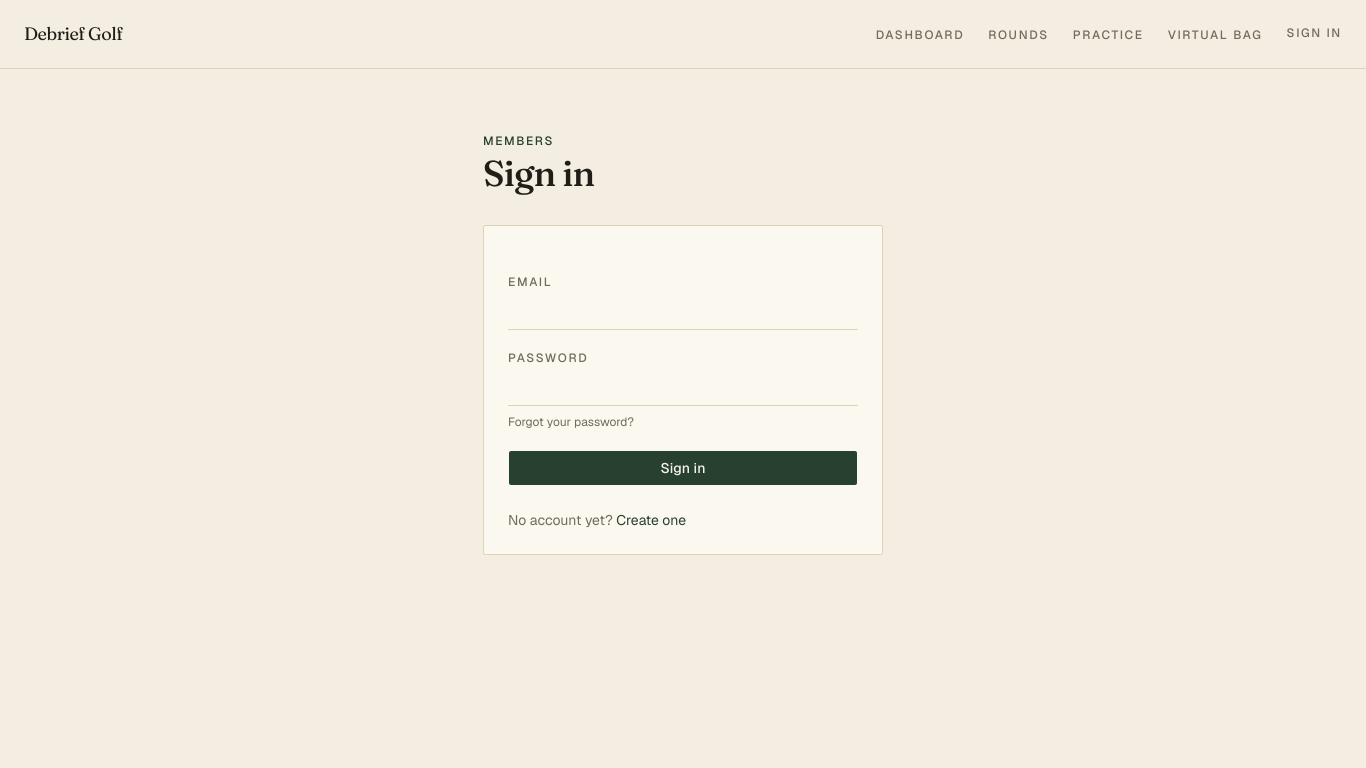
Scenario: LoginPage › surfaces the API's message when sign-in fails
Type "jane@example.com" into the field labelled "Email". click: x=683, y=312
box: left=508, top=294, right=858, bottom=330
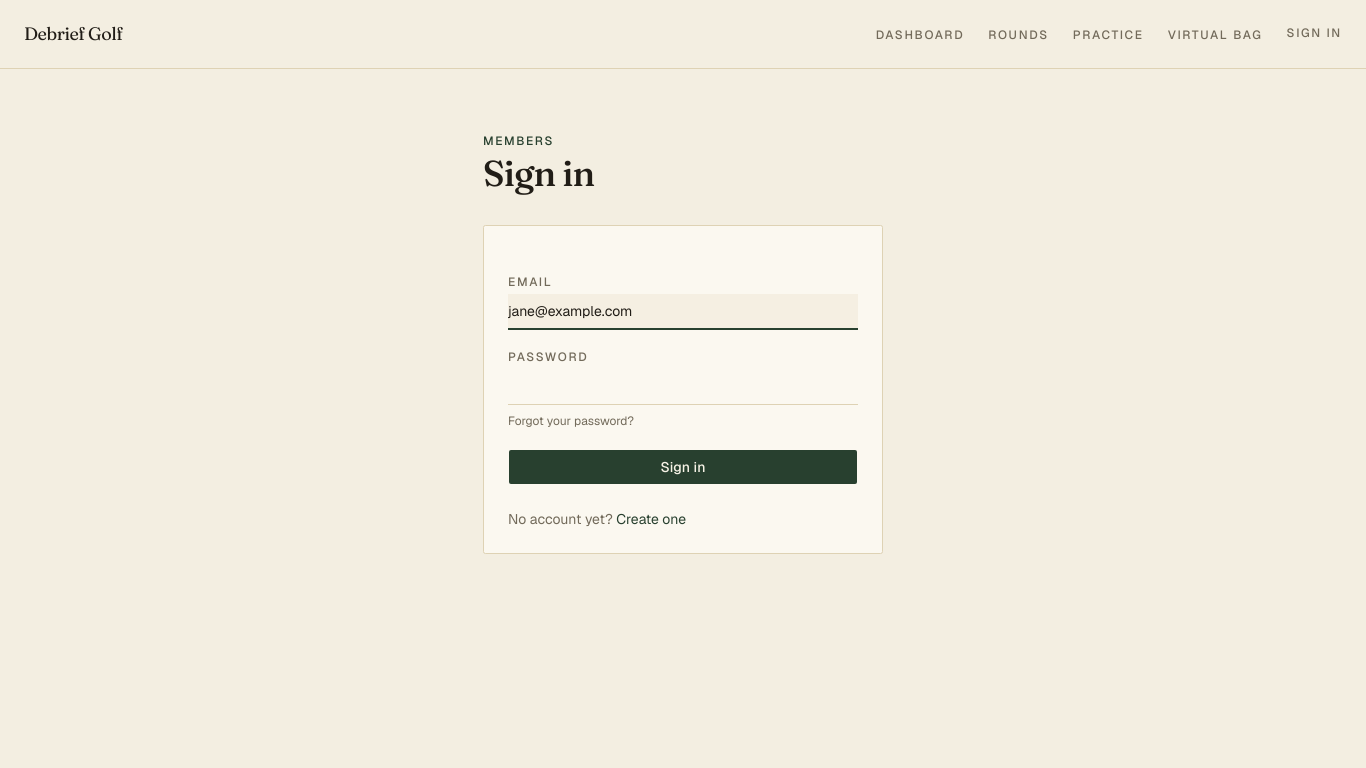
Type "wrong" into the password field labelled "Password". click: x=683, y=387
box: left=508, top=369, right=858, bottom=405
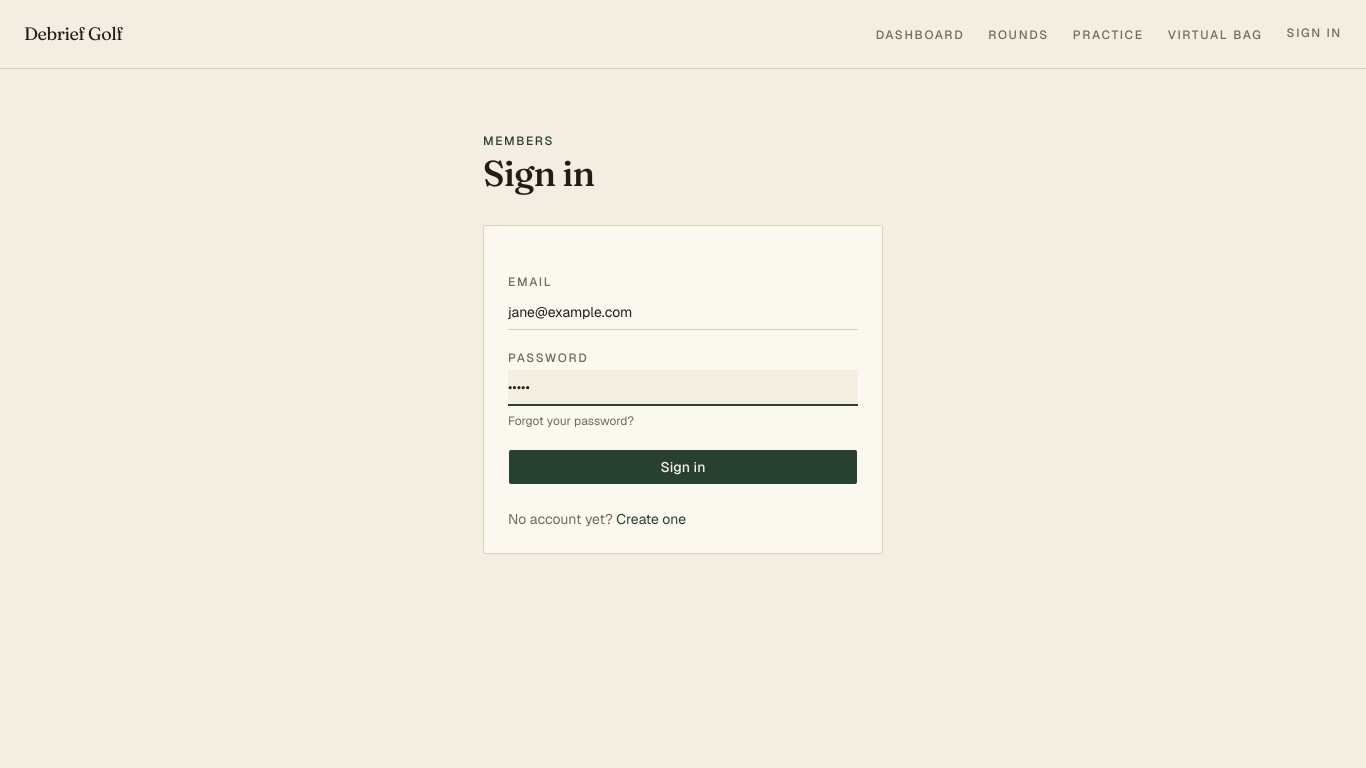
Click the button "Sign in". click: x=683, y=467
box: left=508, top=449, right=858, bottom=485
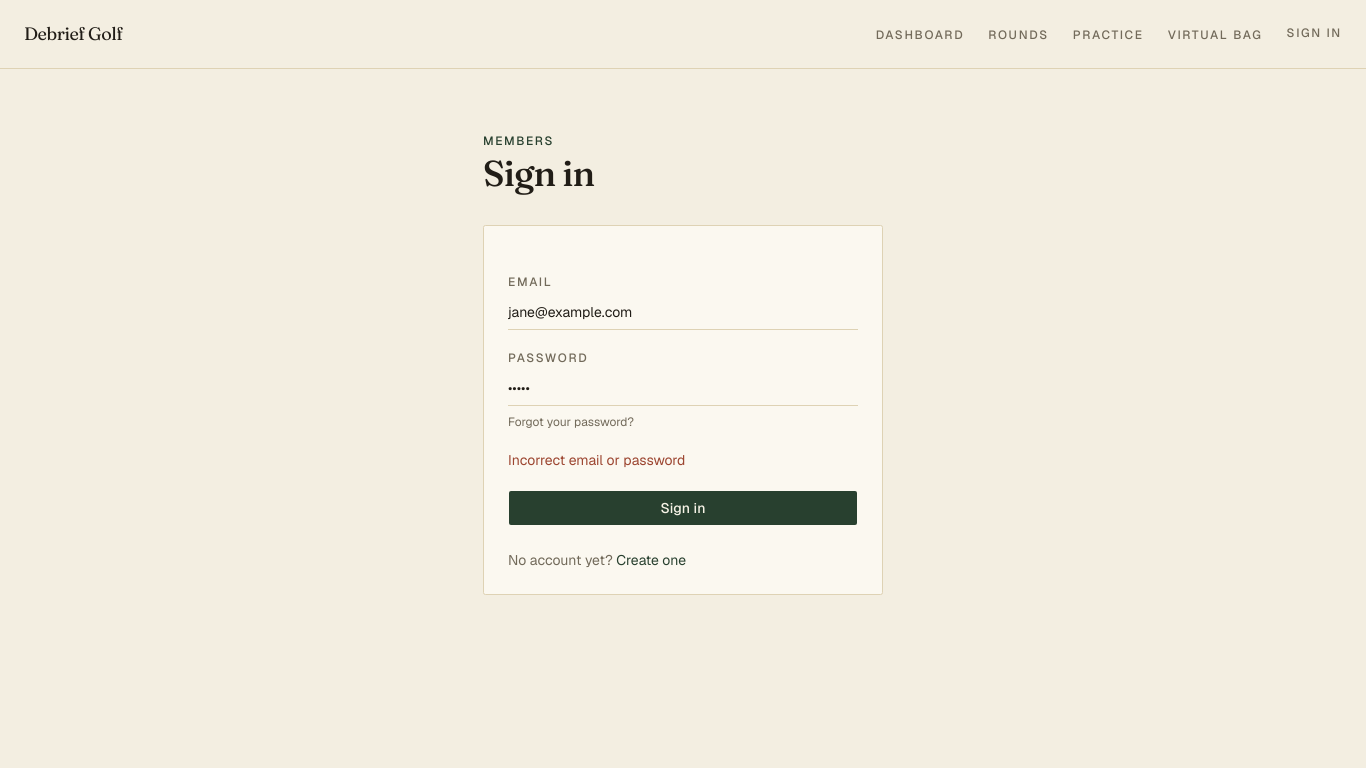
Now the message reads "Incorrect email or password", box left=508, top=451, right=685, bottom=469
